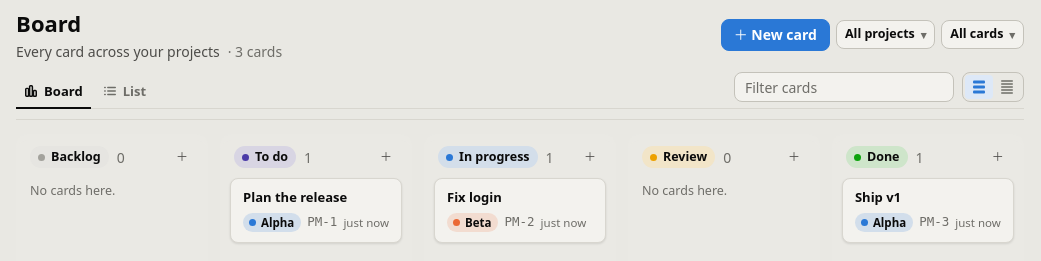
BoardPage › filters by title, key or project, with / to focus and Esc to clear (PM-296)
This screenshot has width=1041, height=261.
Check: the text "Plan the release" is shown, box [243, 189, 347, 206]
Press /
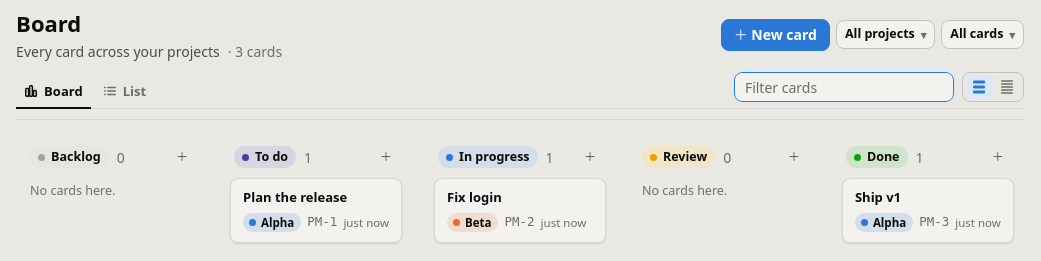
Type "beta login" into the search field labelled "Filter cards" at (844, 87), box [734, 72, 954, 102]
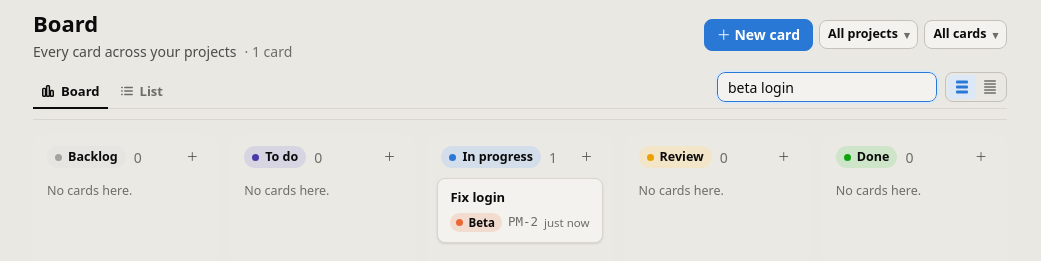
Check: the text "Fix login" is shown, box [450, 189, 505, 206]
Check: the button "Plan the release" is gone
Replace the text in the search field named "Filter cards" with "PM-3" at (827, 87), box [717, 72, 937, 102]
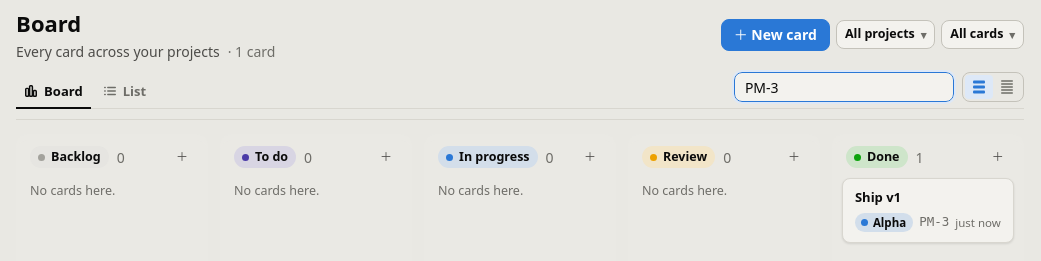
Check: the text "Ship v1" is shown, box [855, 189, 901, 206]
Check: the button "Fix login" is gone
Press Escape in the search field named "Filter cards", box [734, 72, 954, 102]
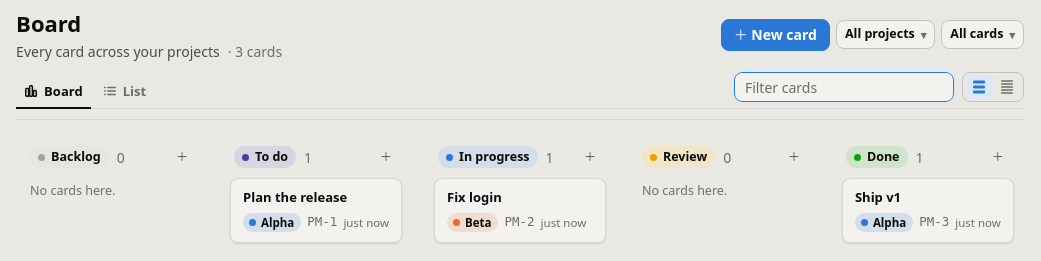
Check: the text "Plan the release" is shown, box [243, 189, 347, 206]
